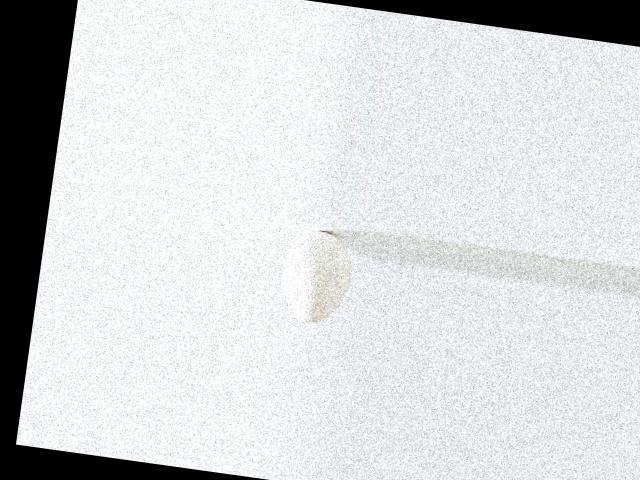egg: (275, 226, 355, 327)
